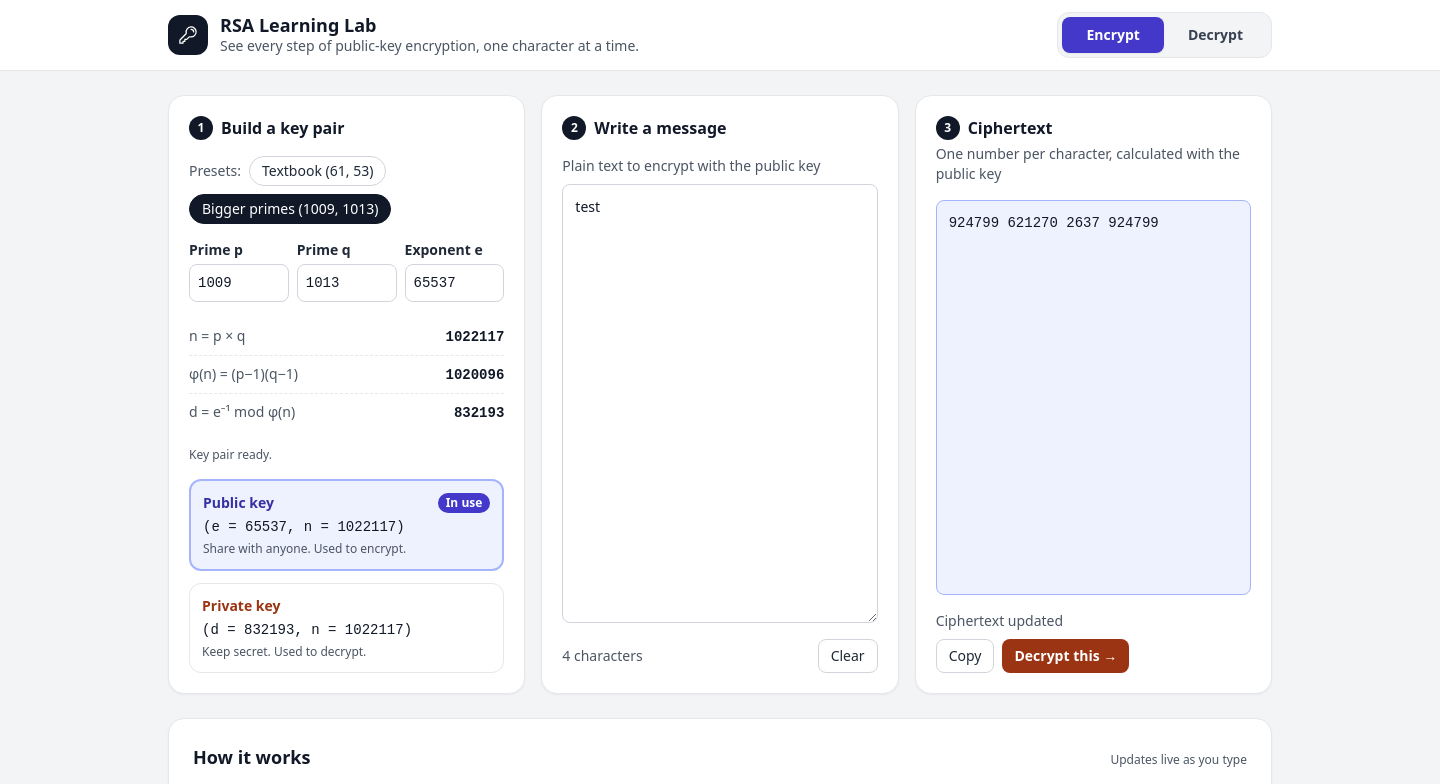
Test: key presets and custom values › editing a field switches to custom values and never shows stale derived values
Expected: the text "Key pair ready." is shown, [189,446,272,463]
Clear the field labelled "Exponent e" at (454, 283), box [404,264,504,302]
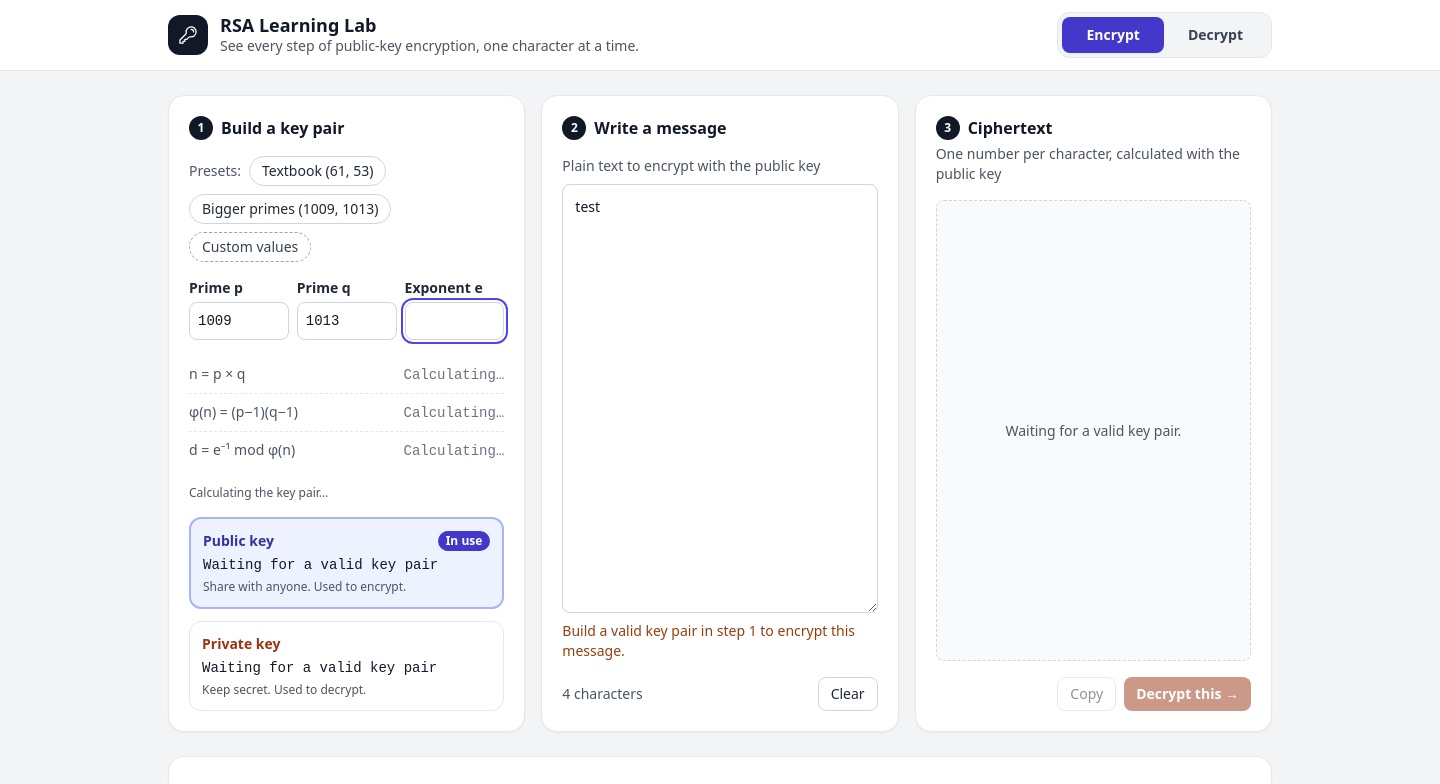
Expected: the text "Custom values" is shown, [189,232,311,262]
Expected: the element showing "Calculating…" next to "n = p × q" no longer shows "1022117", [404,365,504,385]
Expected: the text "Waiting for a valid key pair" below "In use" is shown, [203,557,438,573]
Type "65537" into the field labelled "Exponent e" at (454, 321), box [404,302,504,340]
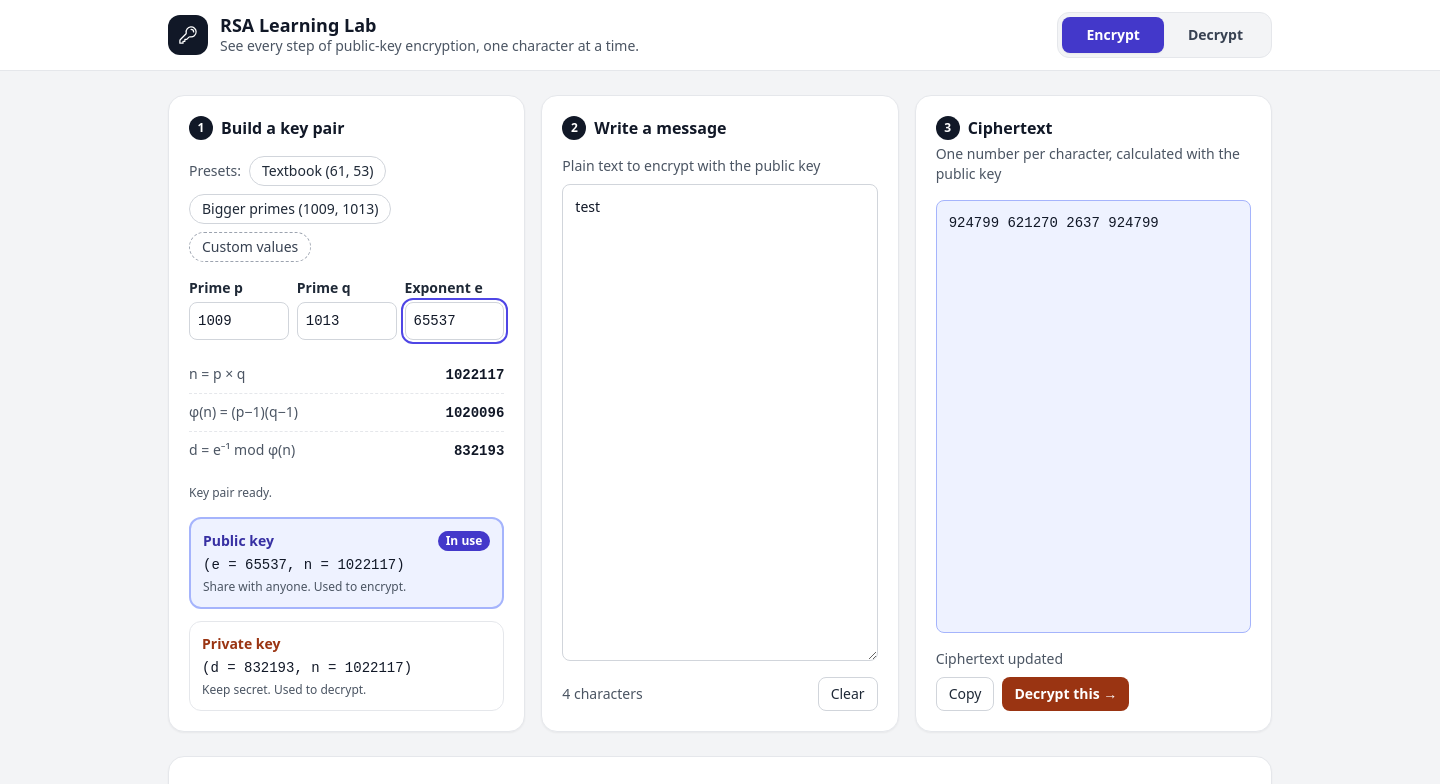
Expected: the text "Key pair ready." is shown, [189,484,272,501]
Expected: the text "1022117" is shown, [446,365,504,385]
Expected: the text "1020096" is shown, [446,403,504,423]
